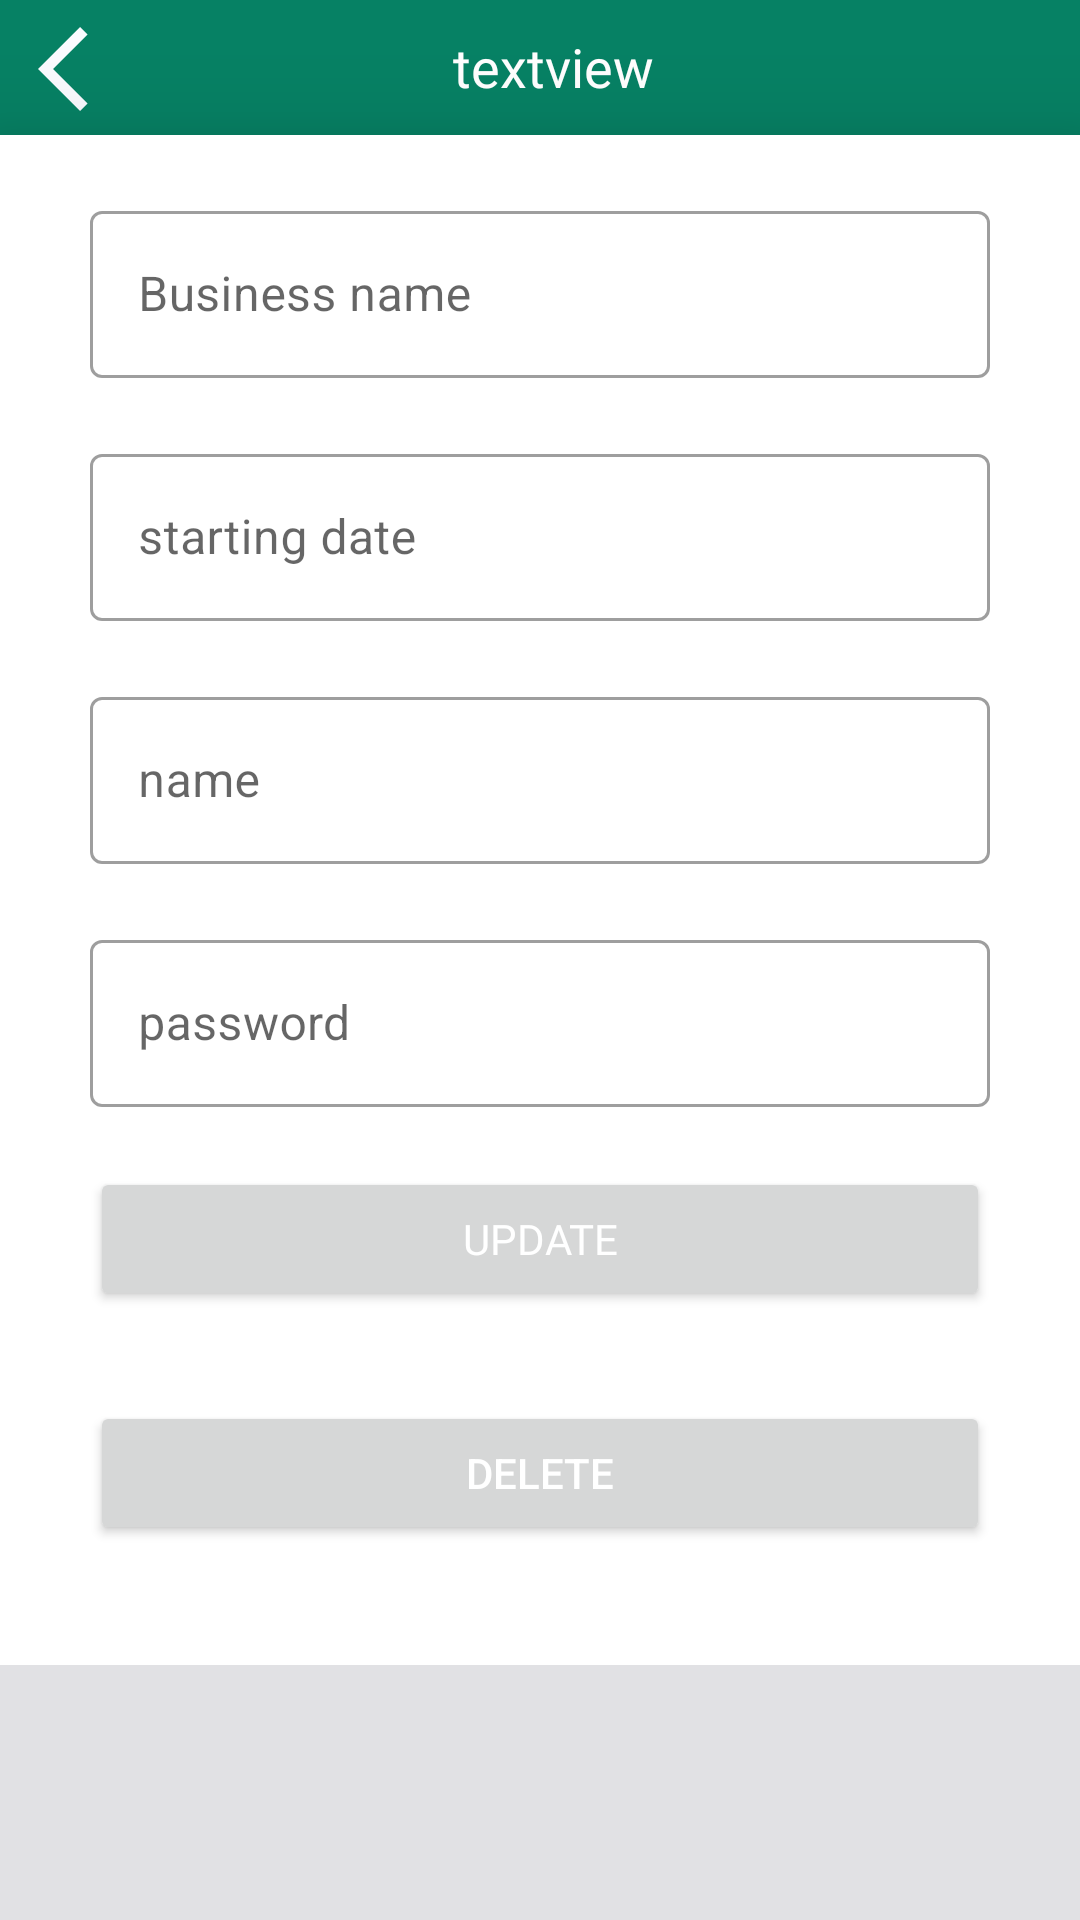

Where icons sit on this 1080*1920 app screen, as [left=x1, top=y1, right=x2, bottom=y2]:
back: [left=38, top=27, right=88, bottom=111]
